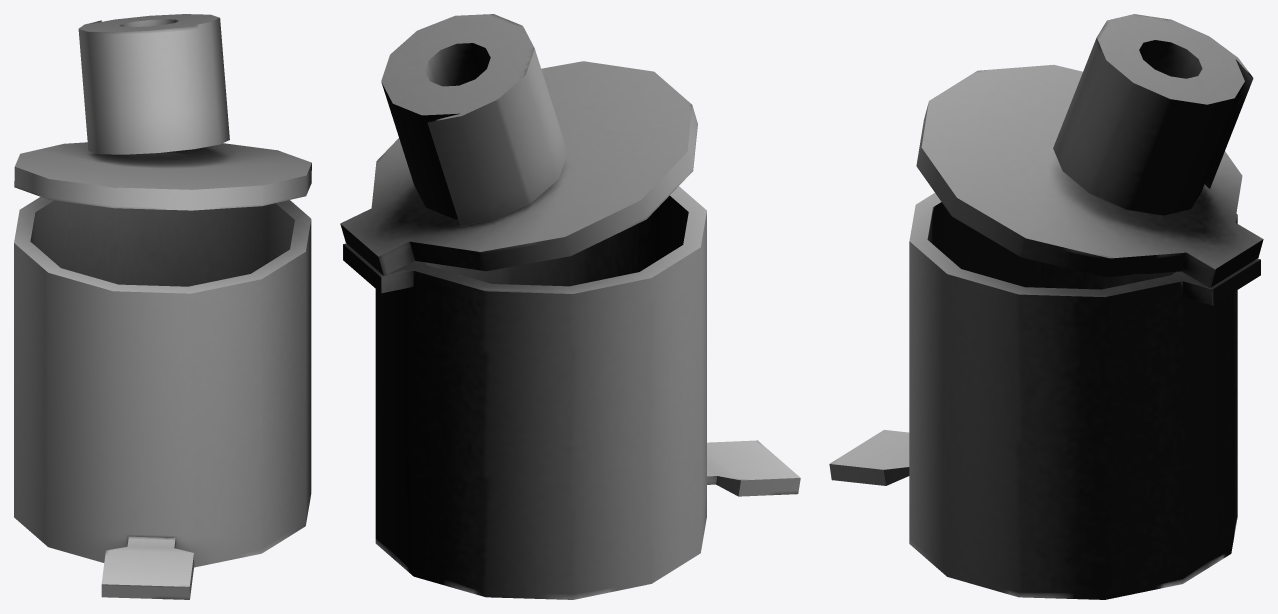
The model's file is STFtrash_can.glb.
3 views of the same model, side by side, from view 1: azimuth 30°, elevation 25°; view 2: azimuth 150°, elevation 25°; view 3: azimuth 270°, elevation 25° (orthographic). The views are drawn at different scales.
Visible parts, largest first — view 1: STFtrash_can; view 2: STFtrash_can; view 3: STFtrash_can.
Part boxes in pixels (x1=…): STFtrash_can: x1=14, y1=14, x2=311, y2=599; STFtrash_can: x1=340, y1=14, x2=800, y2=599; STFtrash_can: x1=829, y1=14, x2=1263, y2=599.
Bounding box in the file's own units: 0.6524 × 1.04 × 0.7988.
Materials: 1 (1 with a texture image).
